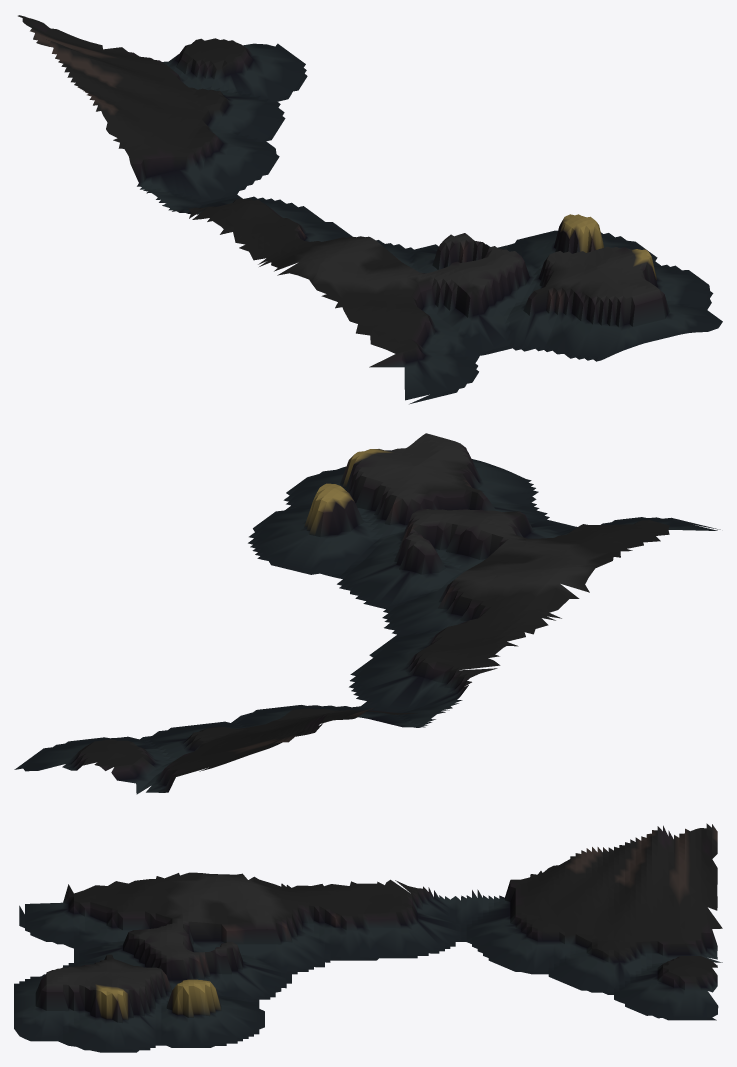
Rendered from ash_tile_x2z1_lod1.glb.
The picture shows the model from 3 angles, top to bottom: view 1: azimuth 30°, elevation 25°; view 2: azimuth 150°, elevation 25°; view 3: azimuth 270°, elevation 25°; orthographic projection. The views are drawn at different scales.
Visible parts, largest first — view 1: geometry_0; view 2: geometry_0; view 3: geometry_0.
Part boxes in pixels (x1,y1,x2,y2): geometry_0: (18,15,722,404); geometry_0: (14,433,720,794); geometry_0: (14,823,722,1052).
Size of the model in its own units: 396 by 102 by 780.
